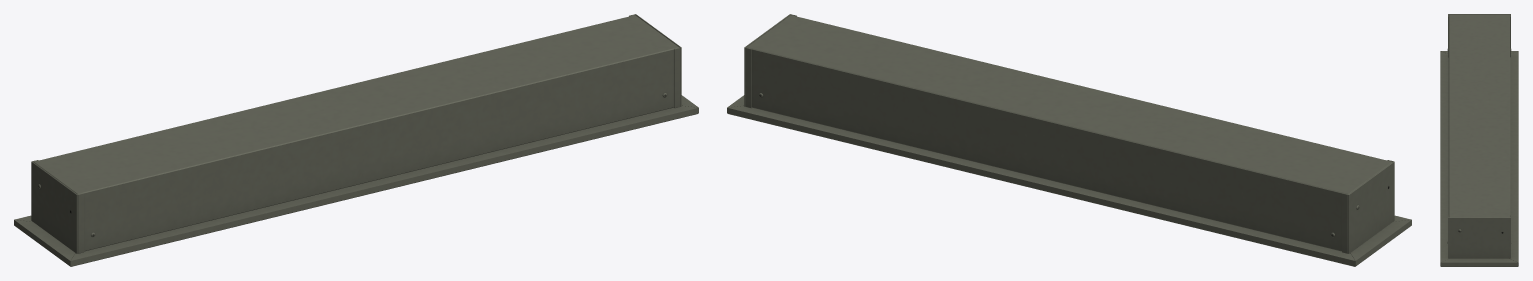
Rendered from linear_recessed_light.glb.
3 renders of one model, left to right at view 1: azimuth 30°, elevation 25°; view 2: azimuth 150°, elevation 25°; view 3: azimuth 270°, elevation 25°, orthographic. The views are drawn at different scales.
Visible parts, largest first — view 1: linear_recessed_light_Body; view 2: linear_recessed_light_Body; view 3: linear_recessed_light_Body.
Boxes of the visible parts, x1,y1,x2,y2 form: linear_recessed_light_Body: (14, 14, 698, 266); linear_recessed_light_Body: (727, 14, 1411, 266); linear_recessed_light_Body: (1440, 14, 1518, 266).
Bounding box in the file's own units: 1.22 × 0.122 × 0.19.
Materials: 2 (2 with a texture image).
